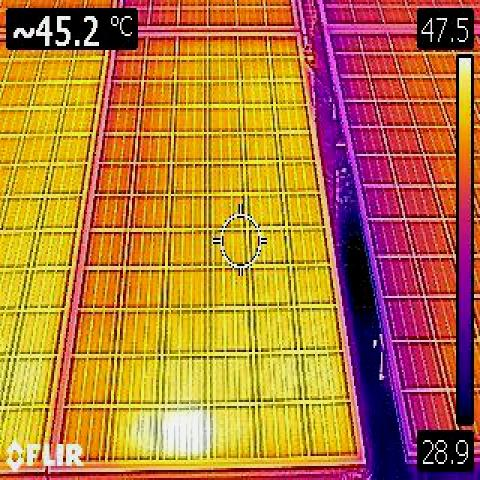fault: (160, 412, 210, 459)
